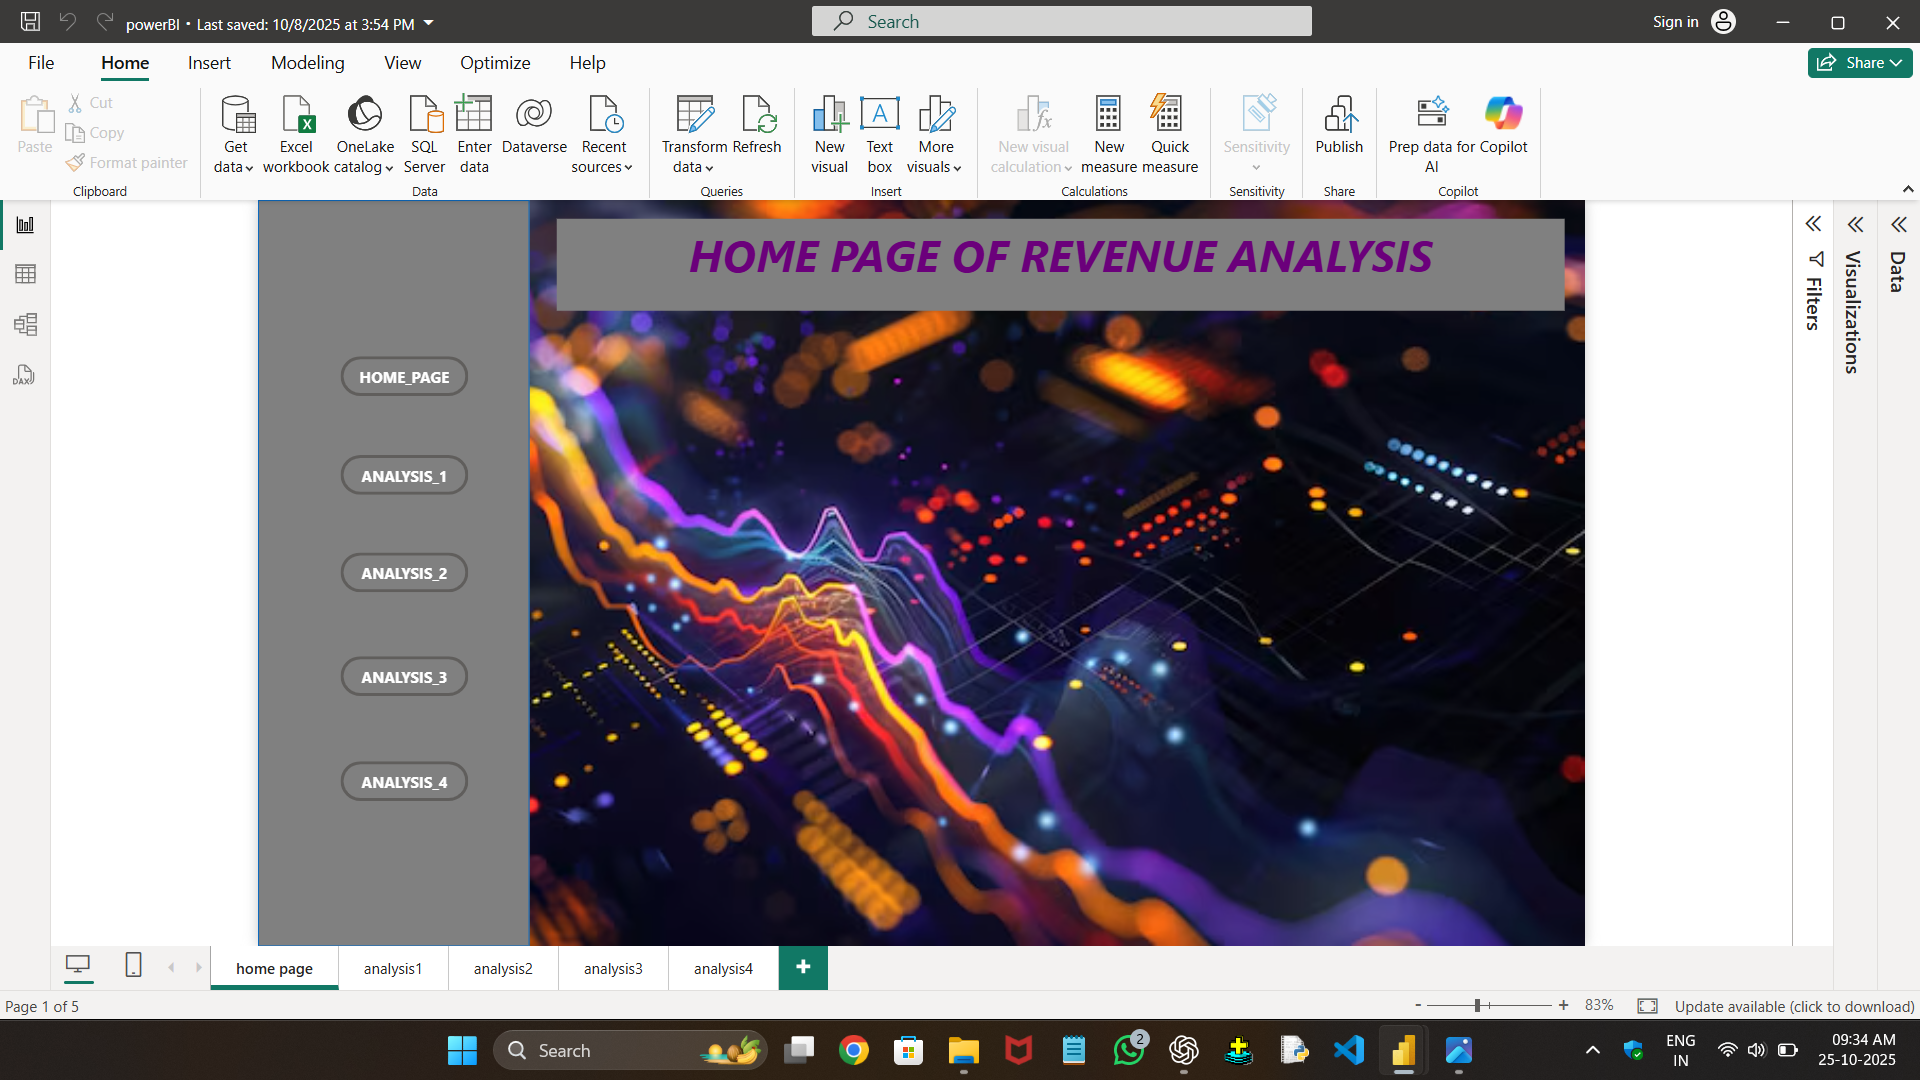

Layout of this report page (visuals, bound fields, positions):
{"tool":"powerbi","page":{"name":"home page","canvas":[1280,720],"ordinal":0},"visuals":[{"type":"shape","box":[0,0,262.1,720.4],"z":0},{"type":"textbox","box":[288.2,17.8,972.9,89.2],"z":1000},{"type":"actionButton","box":[79.6,150.9,123.5,38.4],"z":2000},{"type":"actionButton","box":[79.6,245.6,123.5,38.4],"z":3000},{"type":"actionButton","box":[79.6,340.3,123.5,38.4],"z":4000},{"type":"actionButton","box":[79.6,440.5,123.5,38.4],"z":5000},{"type":"actionButton","box":[79.6,542,123.5,38.4],"z":6000}]}

Visuals, with their boxes on the page's 1280x720 design canvas (x1, y1, x2, y2). These are canvas units, not pixel positions in the 1920x1080 screenshot, which may show the page scaled, cropped or inside an application window:
shape: l=0, t=0, r=262, b=720
textbox: l=288, t=18, r=1261, b=107
actionButton: l=80, t=151, r=203, b=189
actionButton: l=80, t=246, r=203, b=284
actionButton: l=80, t=340, r=203, b=379
actionButton: l=80, t=440, r=203, b=479
actionButton: l=80, t=542, r=203, b=580
